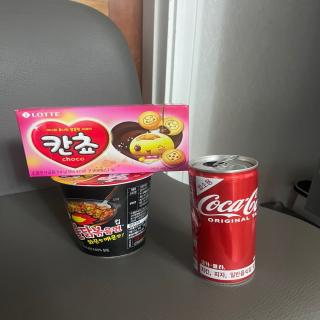cocacola: (185, 151, 266, 286)
